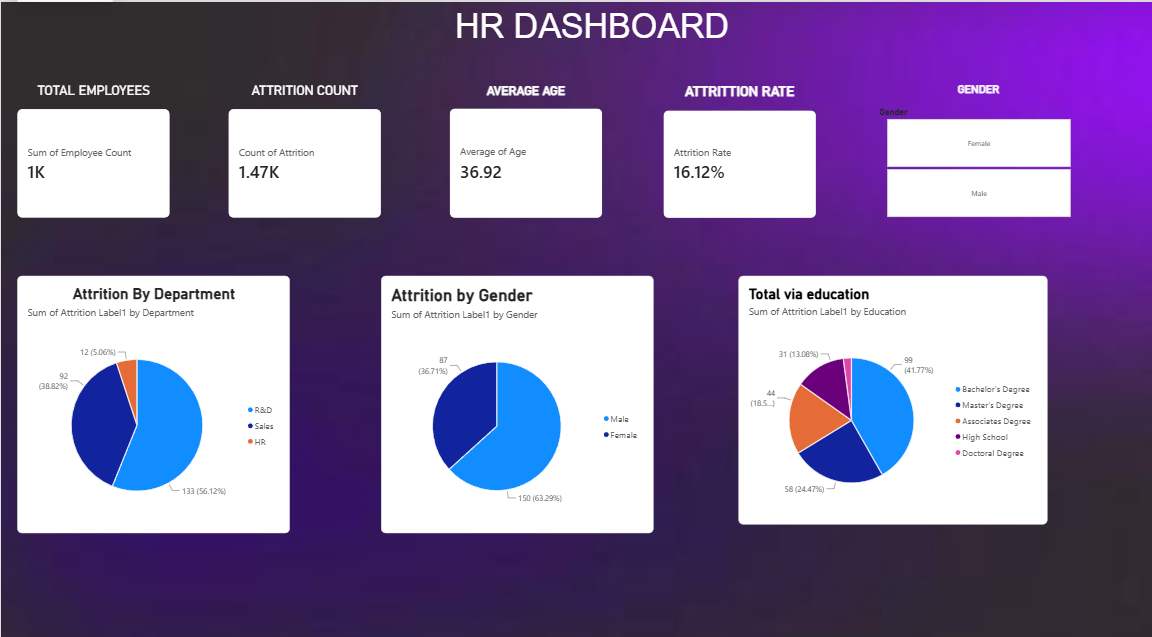

What the dashboard file says about the page in this screenshot:
{"tool":"powerbi","page":{"name":"Page 1","canvas":[1920,1080],"ordinal":0},"visuals":[{"type":"textbox","box":[10.3,0,1910.1,133.8],"z":0},{"type":"cardVisual","title":"TOTAL EMPLOYEES","fields":{"Data":["Sum(HR data.Employee Count)"]},"box":[26.8,133.8,251.1,222.3],"z":1},{"type":"cardVisual","title":"ATTRITION COUNT","fields":{"Data":["CountNonNull(HR data.Attrition)"]},"box":[374.6,133.8,251,222],"z":2},{"type":"cardVisual","title":"AVERAGE AGE","fields":{"Data":["Avg(HR data.Age)"]},"box":[738.9,133.8,251,222],"z":3},{"type":"cardVisual","title":"ATTRITTION RATE","fields":{"Data":["HR data.Attrition Rate"]},"box":[1090.9,133.8,251,222],"z":4},{"type":"slicer","title":"GENDER","fields":{"Values":["HR data.Gender"]},"box":[1438.8,133.8,341.7,222.3],"z":5},{"type":"pieChart","title":" Attrition By Department","fields":{"Category":["HR data.Department"],"Y":["Sum(HR data.Attrition Label1)"]},"box":[26.8,450.8,448.7,424],"z":6},{"type":"pieChart","title":" Attrition by Gender","fields":{"Category":["HR data.Gender"],"Y":["Sum(HR data.Attrition Label1)"]},"box":[625.7,450.8,448.7,424],"z":7},{"type":"pieChart","title":"Total via education","fields":{"Category":["HR data.Education"],"Y":["Sum(HR data.Attrition Label1)"]},"box":[1214.4,450.8,508.4,409.6],"z":8}]}

Visuals, with their boxes in screenshot pixels (x1, y1, x2, y2), scaled from the page's 1920x1080 canvas onto the 1152x637 screenshot:
textbox: left=6, top=0, right=1151, bottom=79
"TOTAL EMPLOYEES" cardVisual: left=16, top=79, right=167, bottom=210
"ATTRITION COUNT" cardVisual: left=225, top=79, right=375, bottom=210
"AVERAGE AGE" cardVisual: left=443, top=79, right=594, bottom=210
"ATTRITTION RATE" cardVisual: left=655, top=79, right=805, bottom=210
"GENDER" slicer: left=863, top=79, right=1068, bottom=210
" Attrition By Department" pieChart: left=16, top=266, right=285, bottom=516
" Attrition by Gender" pieChart: left=375, top=266, right=645, bottom=516
"Total via education" pieChart: left=729, top=266, right=1034, bottom=507
